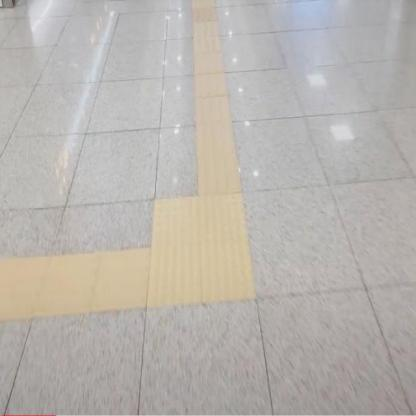podotacti: (128, 147, 292, 357), (1, 247, 145, 318), (193, 1, 241, 191)
